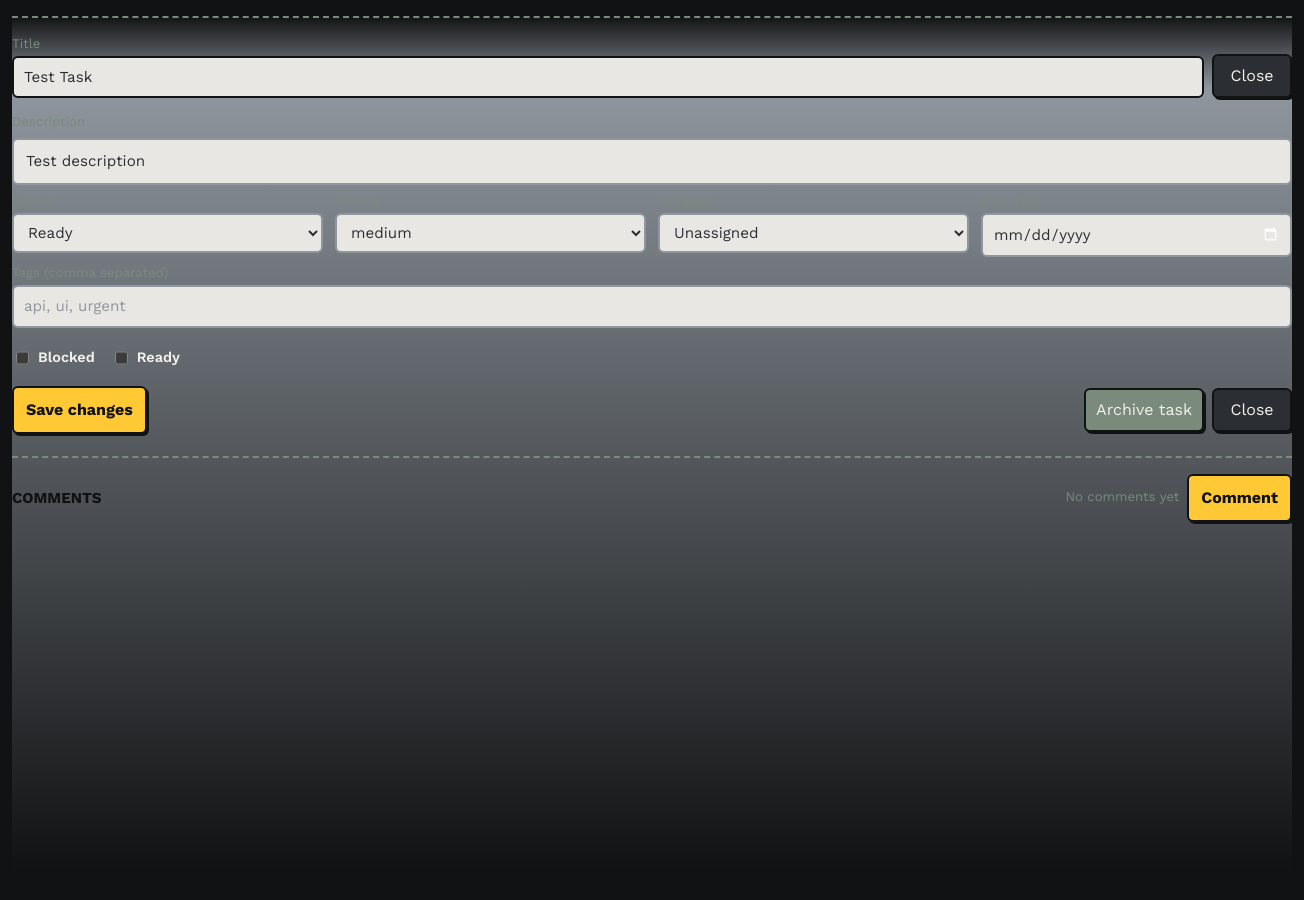
Test case: TaskEditor › switches to edit mode when description preview is clicked
The image size is (1304, 900).
Click the button with aria-label "Click to edit description" at (86, 161), box 12,138 -> 1292,185
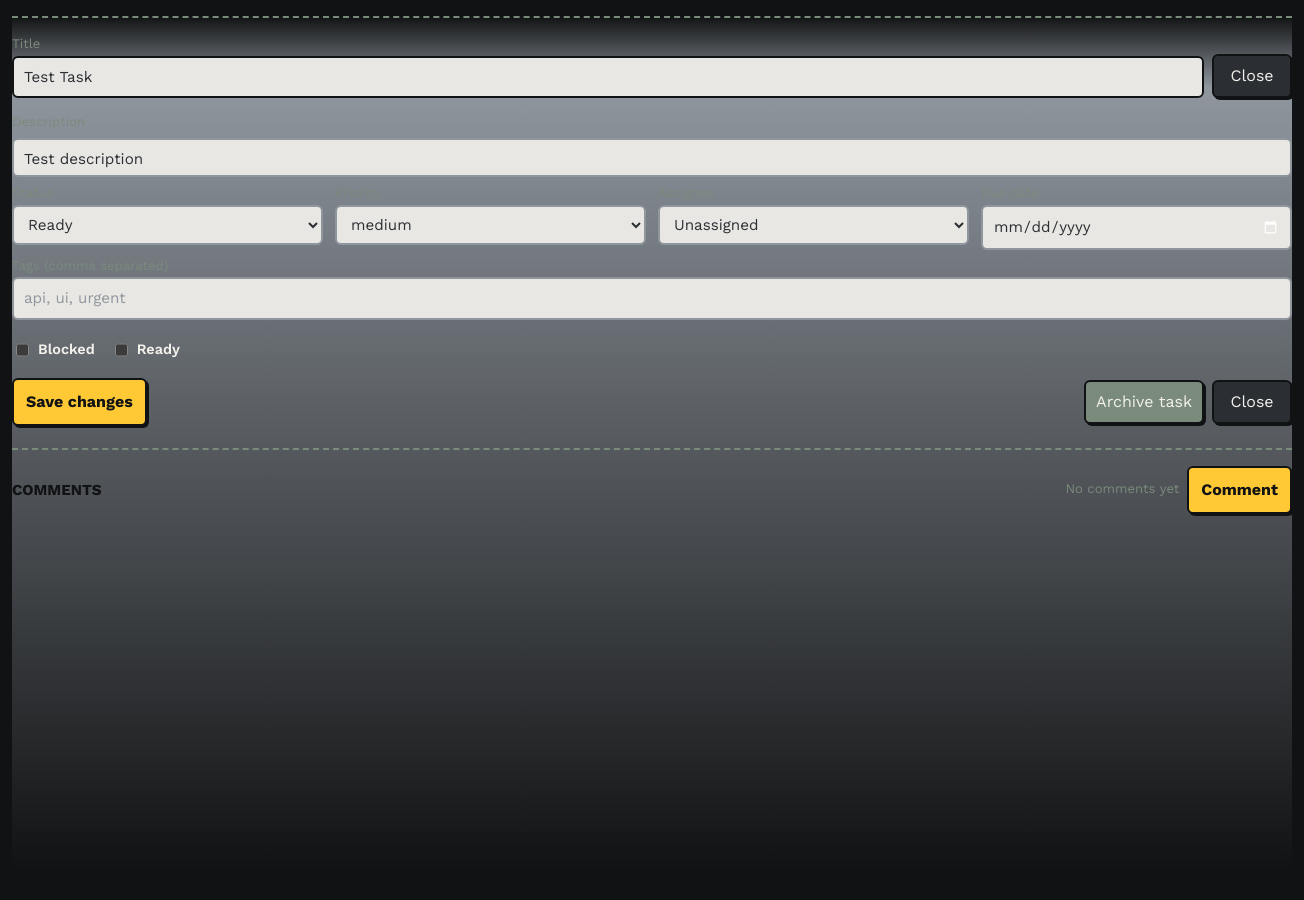
Check: the text box named "Detail description" holds "Test description", box 12,138 -> 1292,177
